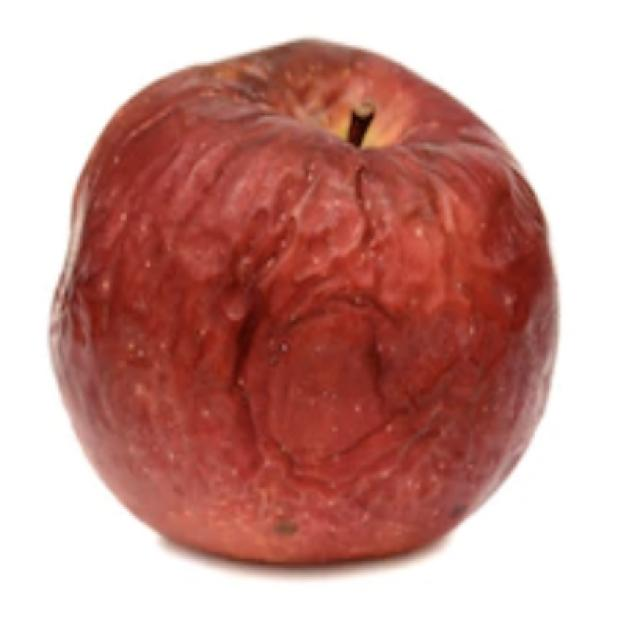rotten_apple: (49, 32, 560, 569)
